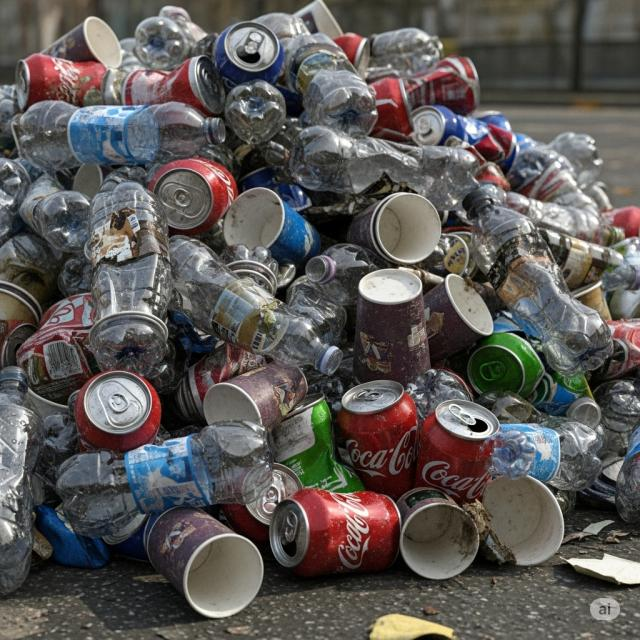aluminum: (270, 483, 409, 571), (336, 375, 421, 500), (419, 400, 501, 498), (77, 367, 163, 460), (149, 154, 240, 234), (127, 56, 233, 115), (16, 53, 119, 105), (212, 21, 284, 81), (414, 57, 480, 109)
paper: (145, 501, 266, 619), (202, 361, 312, 451), (355, 266, 433, 387), (472, 471, 566, 567), (396, 486, 483, 584), (220, 187, 320, 268)
plastic: (455, 186, 617, 378), (154, 232, 346, 380), (53, 418, 276, 536), (291, 122, 482, 216), (83, 178, 172, 376), (18, 99, 231, 162), (0, 366, 50, 596), (283, 35, 381, 140), (2, 156, 94, 252), (47, 15, 125, 70)
